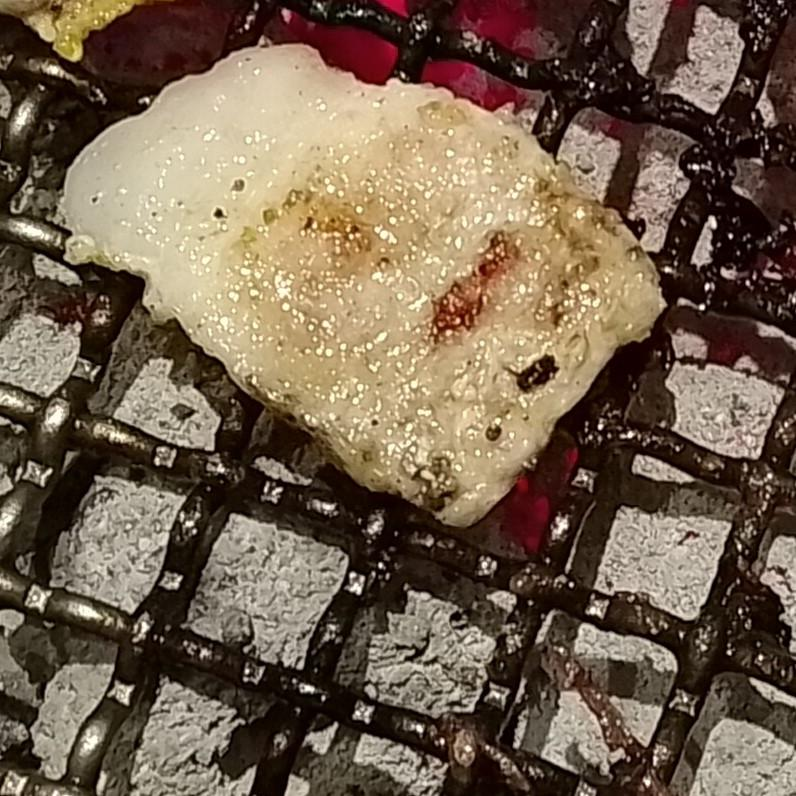Undercooked: (58, 44, 667, 529)
